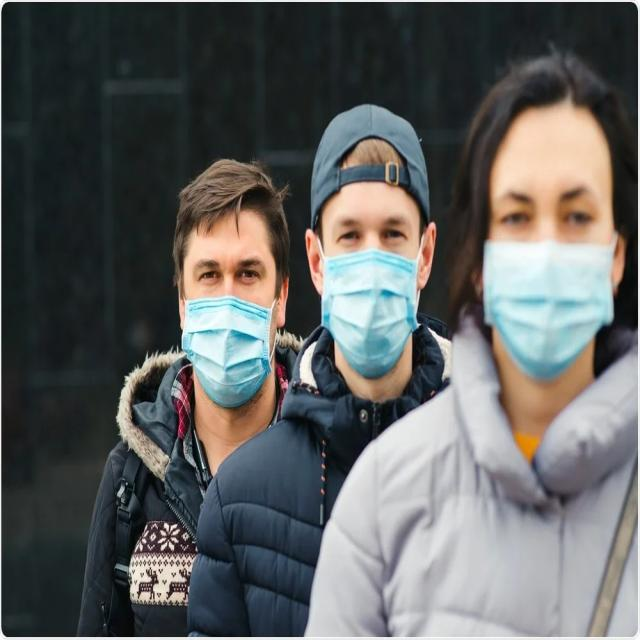Masked_face: (472, 59, 621, 373), (304, 99, 437, 375), (166, 153, 288, 402)
